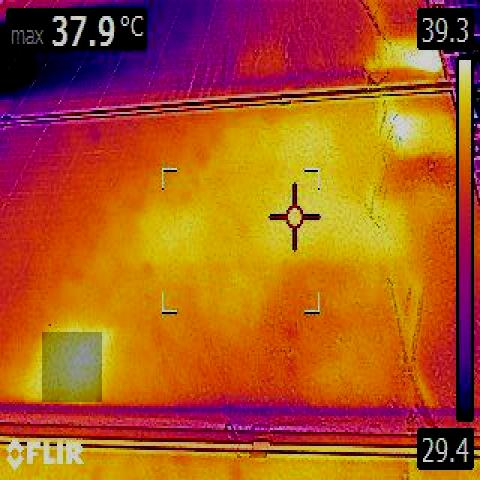fault: (42, 332, 102, 402)
